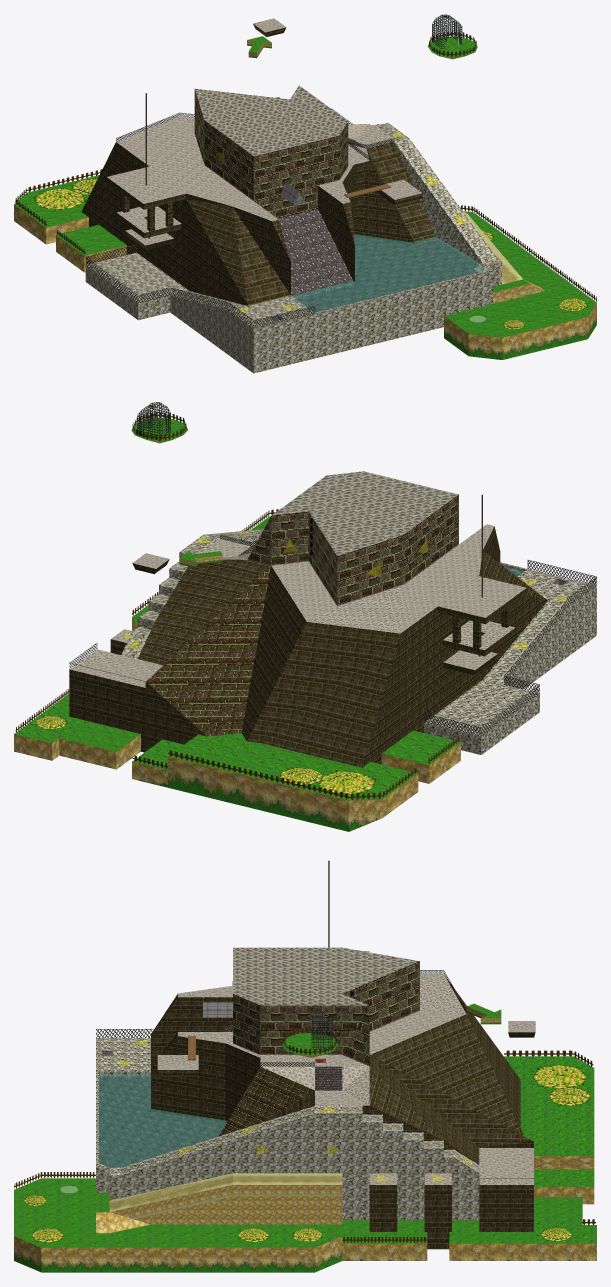
File: battan_king_map_all.obj
The picture shows the model from 3 angles, top to bottom: view 1: azimuth 30°, elevation 25°; view 2: azimuth 150°, elevation 25°; view 3: azimuth 270°, elevation 25°; orthographic projection. The views are drawn at different scales.
Visible parts, largest first — view 1: r0; view 2: r0; view 3: r0.
Part boxes in pixels (x1,y1,x2,y2): r0: (14,14,596,373); r0: (14,402,596,831); r0: (14,860,596,1272).
Size of the model in its own units: 8.2 by 4.93 by 10.65.
